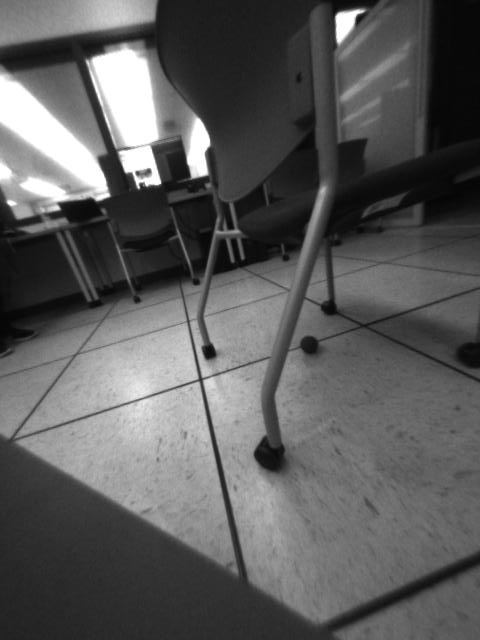dogtoy: (296, 330, 322, 358)
